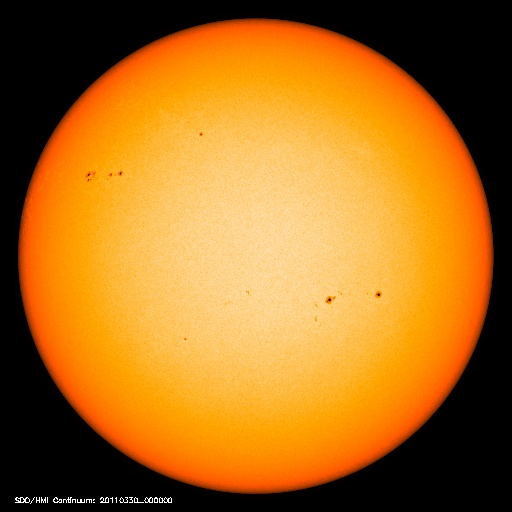sunspot: (303, 281, 388, 323), (81, 164, 132, 187), (222, 284, 262, 313), (186, 123, 214, 147), (171, 328, 195, 353)
